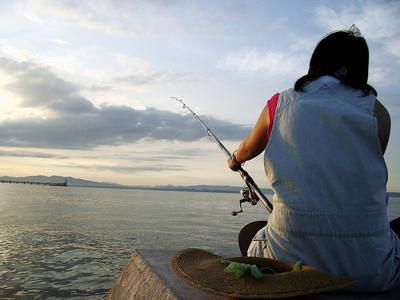person: (227, 30, 400, 295)
